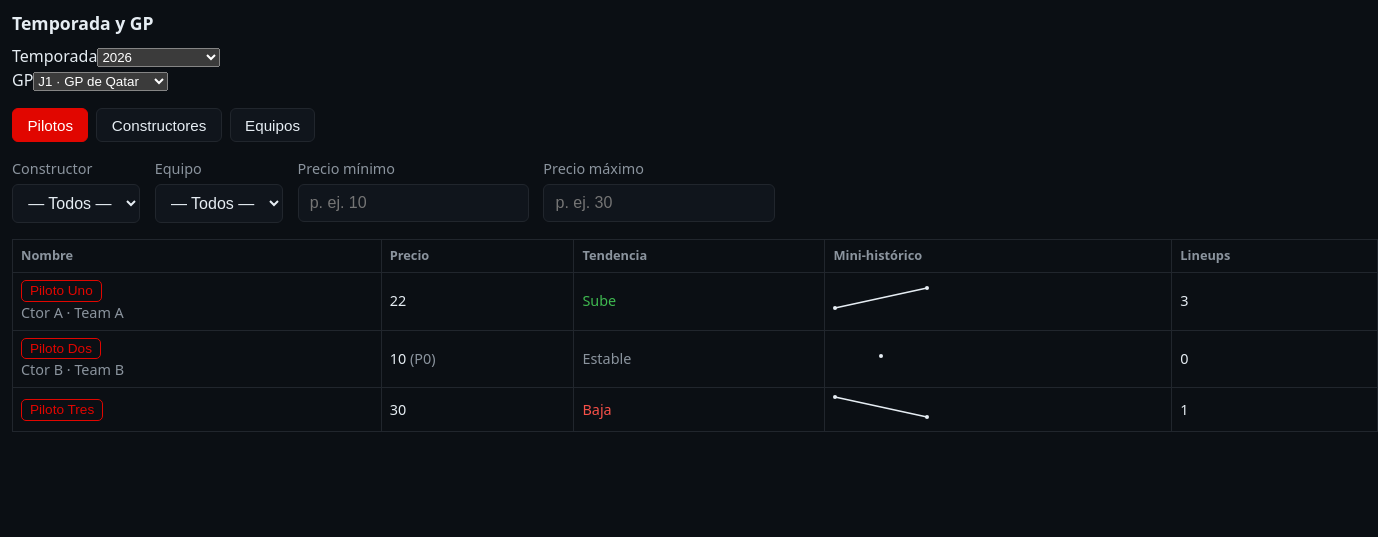
Test: MercadoPage (US-14) › muestra un error si el detalle falla
This screenshot has width=1378, height=537.
Click the button "Piloto Uno". click: (61,291)
box: x1=21 y1=280 x2=102 y2=302
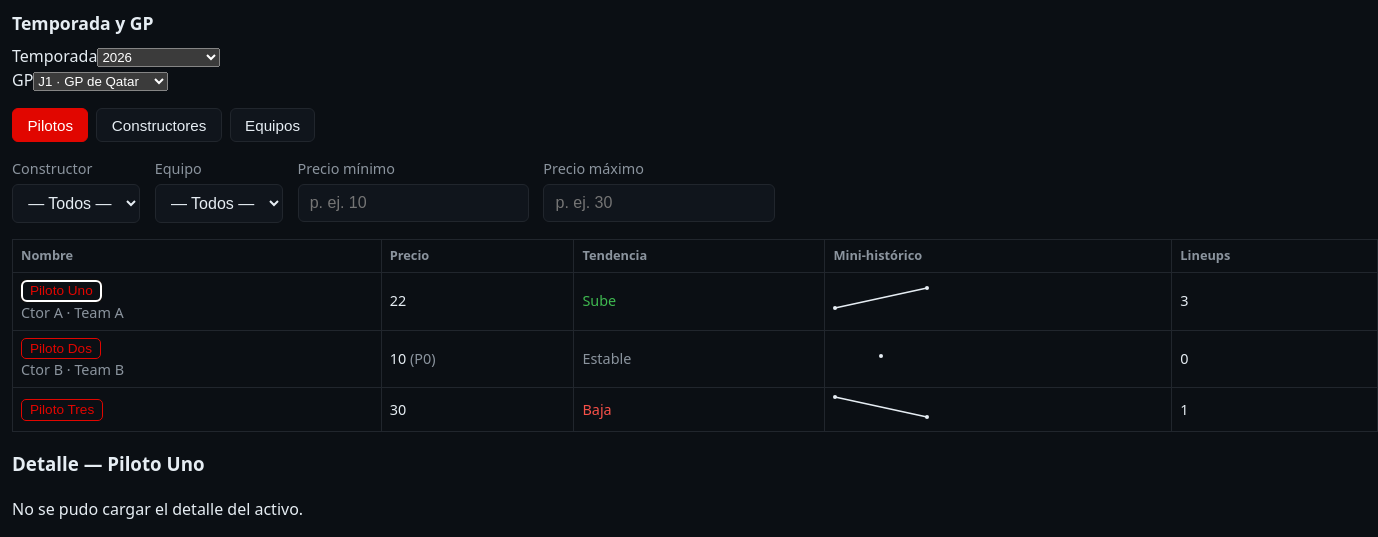
Result: the text "No se pudo cargar el detalle del activo." is shown at x1=12 y1=498 x2=303 y2=520
